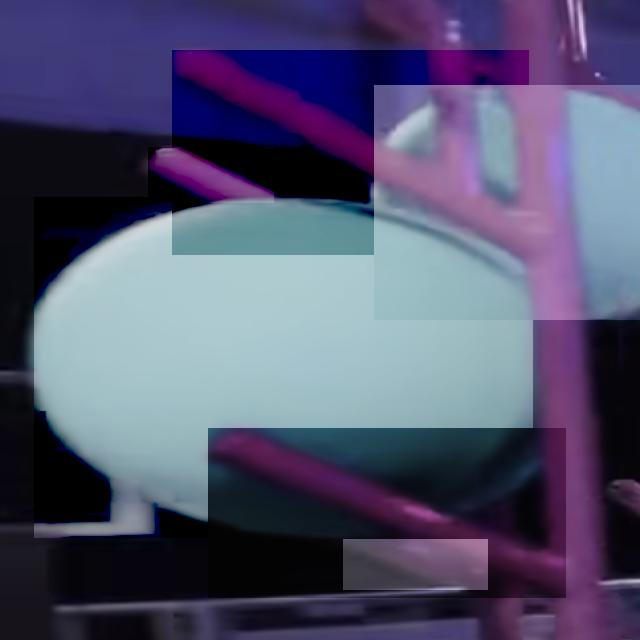Algae: (34, 197, 533, 538), (374, 85, 640, 320)
Reef: (172, 50, 529, 255), (208, 428, 566, 598), (343, 539, 488, 590), (148, 147, 274, 203)
